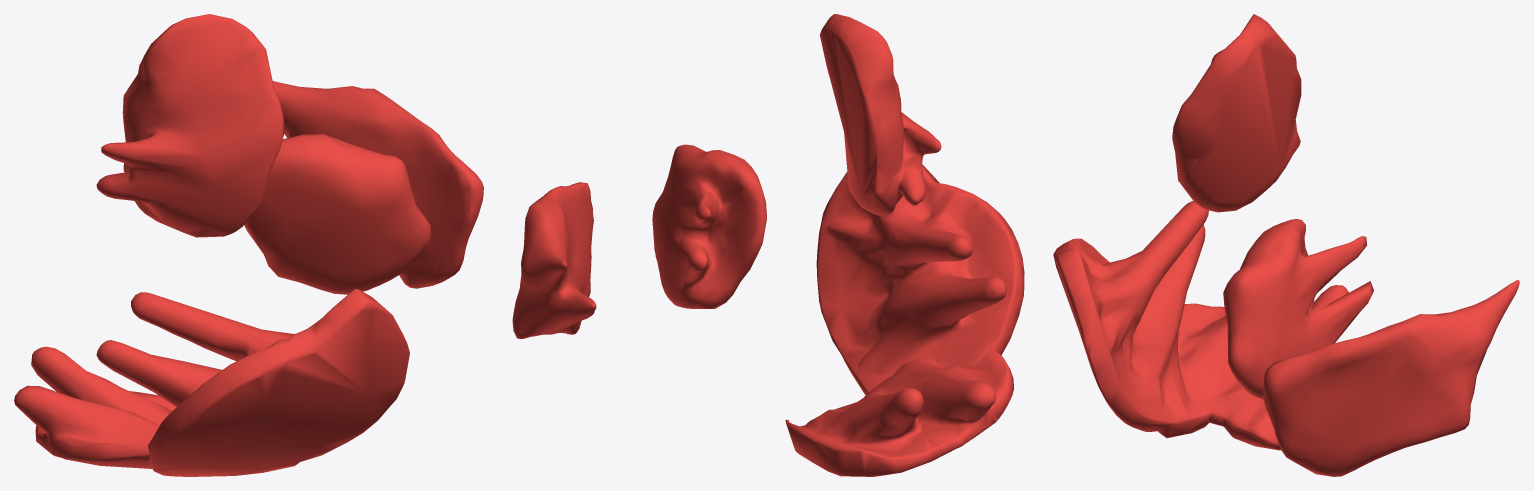
Rendered from papilarymuscle.gltf.
The picture shows the model from 3 angles, left to right: view 1: azimuth 30°, elevation 25°; view 2: azimuth 150°, elevation 25°; view 3: azimuth 270°, elevation 25°; orthographic projection. The views are drawn at different scales.
Parts seen in each view (by area): view 1: Inferior papillary muscle of right ventricle.006; view 2: Inferior papillary muscle of right ventricle.006; view 3: Inferior papillary muscle of right ventricle.006.
Boxes of the visible parts, x1,y1,x2,y2 form: Inferior papillary muscle of right ventricle.006: (14, 14, 483, 476); Inferior papillary muscle of right ventricle.006: (512, 14, 1024, 476); Inferior papillary muscle of right ventricle.006: (1053, 14, 1519, 476).
Size of the model in its own units: 2.03 by 1.88 by 1.92.
